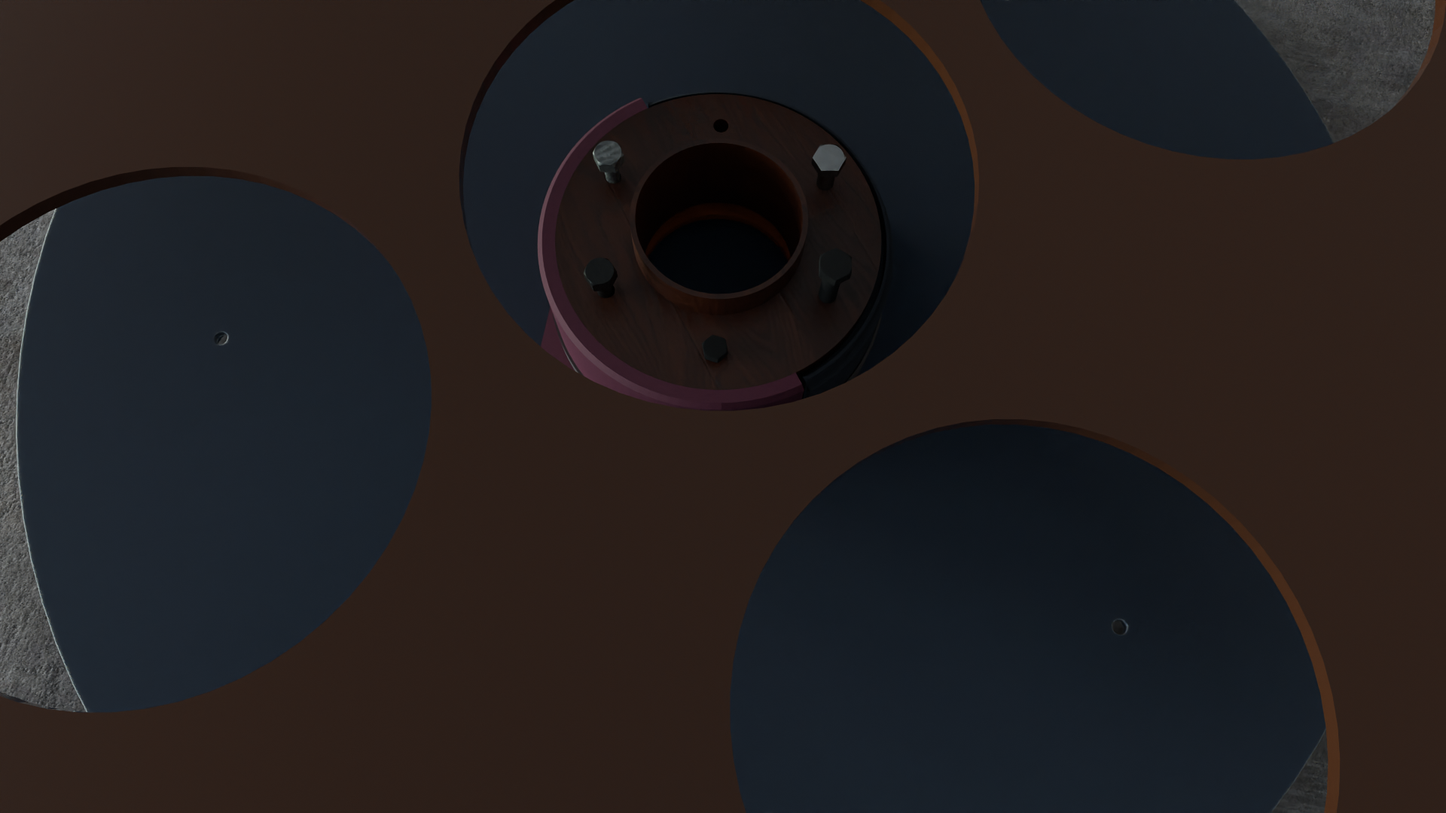bolt: (820, 248, 852, 281), (584, 257, 616, 286), (813, 145, 847, 171), (593, 141, 624, 166), (703, 335, 728, 360)
